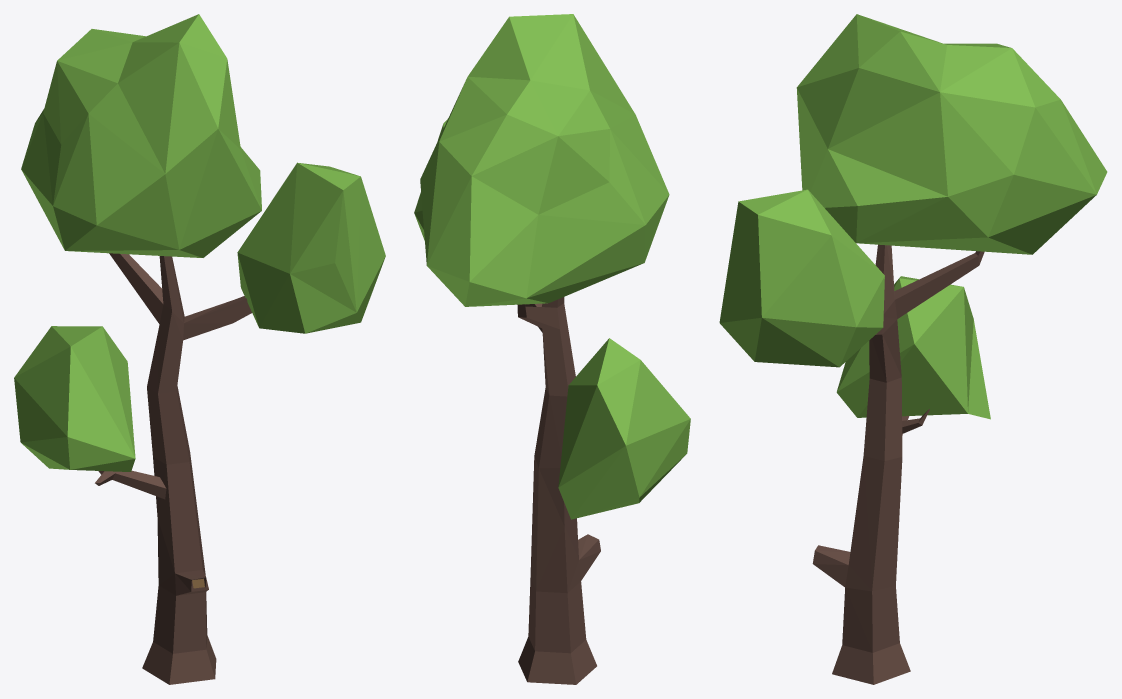
Rendered from tree-04.glb.
3 renders of one model, left to right at view 1: azimuth 30°, elevation 25°; view 2: azimuth 150°, elevation 25°; view 3: azimuth 270°, elevation 25°, orthographic. The views are drawn at different scales.
Parts seen in each view (by area): view 1: Tree2_2; view 2: Tree2_2; view 3: Tree2_2.
Part boxes in pixels (x1=…): Tree2_2: x1=14, y1=14, x2=385, y2=684; Tree2_2: x1=414, y1=14, x2=690, y2=684; Tree2_2: x1=719, y1=14, x2=1107, y2=684.
Bounding box in the file's own units: 4.12 × 9.17 × 4.95.
